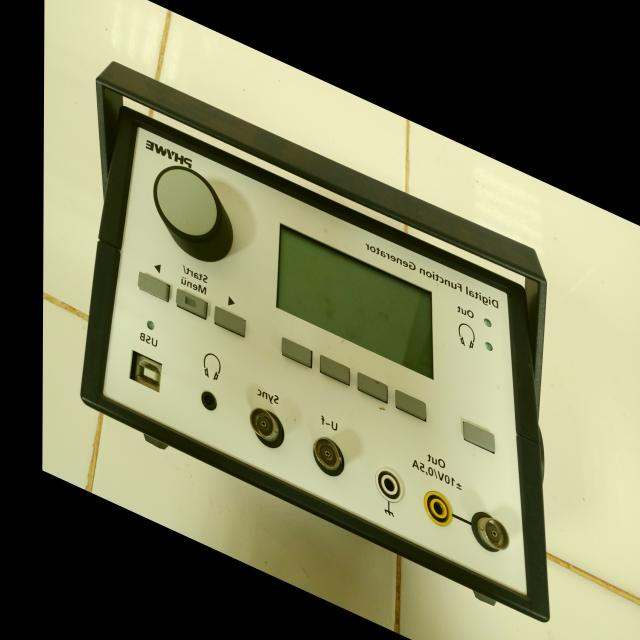Digital Function Generator: (70, 32, 564, 640)
